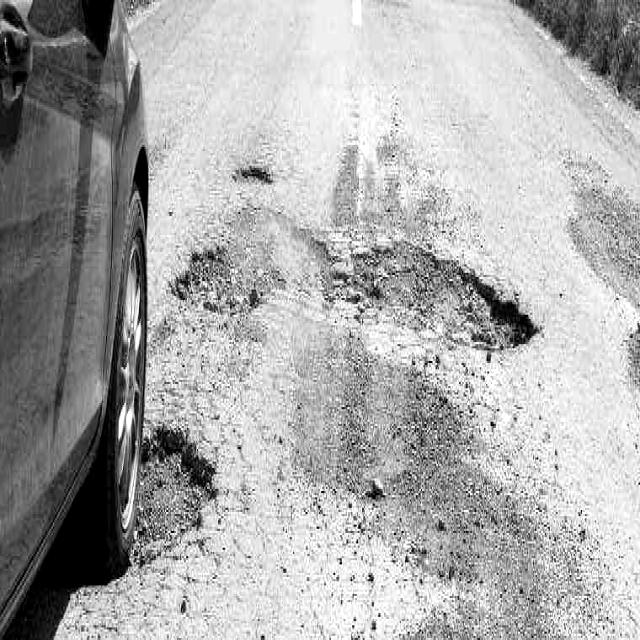pathole: (171, 90, 538, 363), (131, 405, 216, 565)
